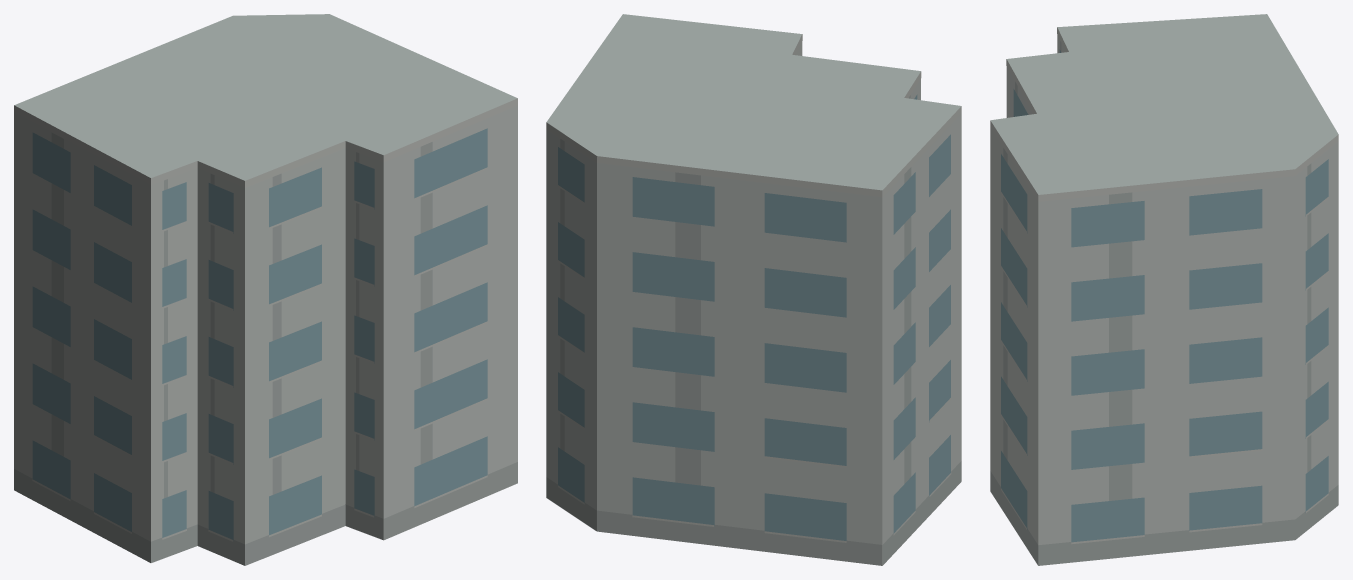
The model's file is survey-upis-32886488.glb.
3 views of the same model, side by side, from view 1: azimuth 30°, elevation 25°; view 2: azimuth 150°, elevation 25°; view 3: azimuth 270°, elevation 25° (orthographic). The views are drawn at different scales.
Parts seen in each view (by area): view 1: survey-upis-32886488.tmp; view 2: survey-upis-32886488.tmp; view 3: survey-upis-32886488.tmp.
Part boxes in pixels (left/top/right/bottom): survey-upis-32886488.tmp: left=14, top=14, right=517, bottom=565; survey-upis-32886488.tmp: left=546, top=14, right=961, bottom=565; survey-upis-32886488.tmp: left=990, top=14, right=1338, bottom=565.
Bounding box in the file's own units: 13.82 × 13.2 × 11.25.
